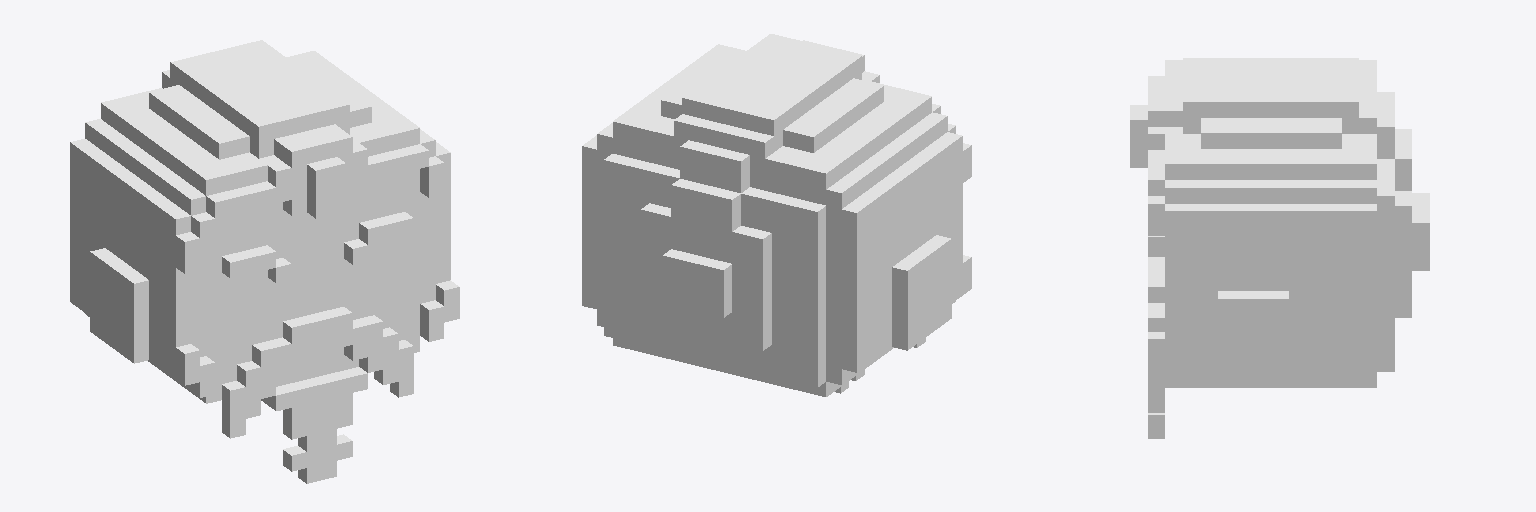
Rendered from player4Head.obj.
3 renders of one model, left to right at view 1: azimuth 30°, elevation 25°; view 2: azimuth 150°, elevation 25°; view 3: azimuth 270°, elevation 25°, orthographic.
Visible parts, largest first — view 1: player4Head; view 2: player4Head; view 3: player4Head.
Part boxes in pixels (x1,y1,x2,y2): player4Head: (70,40,459,483); player4Head: (582,34,971,396); player4Head: (1130,58,1429,438).
Size of the model in its own units: 20 by 22 by 17.